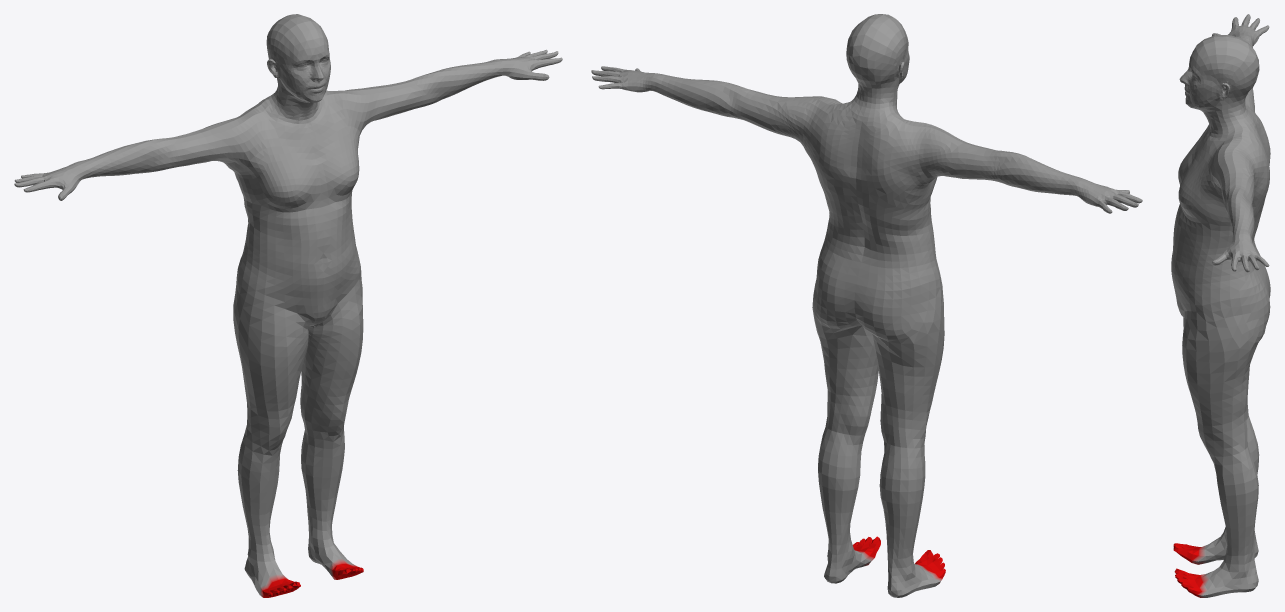
The model's file is zeropose_toe.obj.
3 views of the same model, side by side, from view 1: azimuth 30°, elevation 25°; view 2: azimuth 150°, elevation 25°; view 3: azimuth 270°, elevation 25° (orthographic). The views are drawn at different scales.
Size of the model in its own units: 1.75 by 1.72 by 0.2866.
